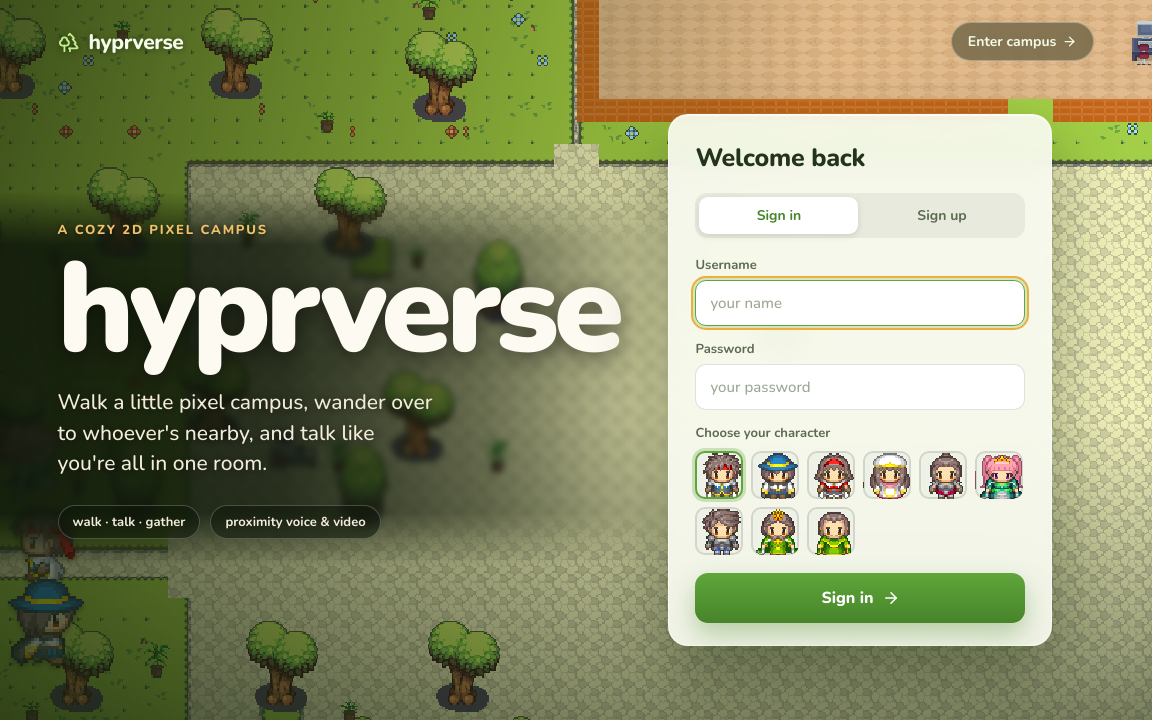
Scenario: Landing › surfaces a server error and does not enter
Type "ada" into the field labelled "Username".
click(860, 303); type("ada")  # box [696,280,1026,326]
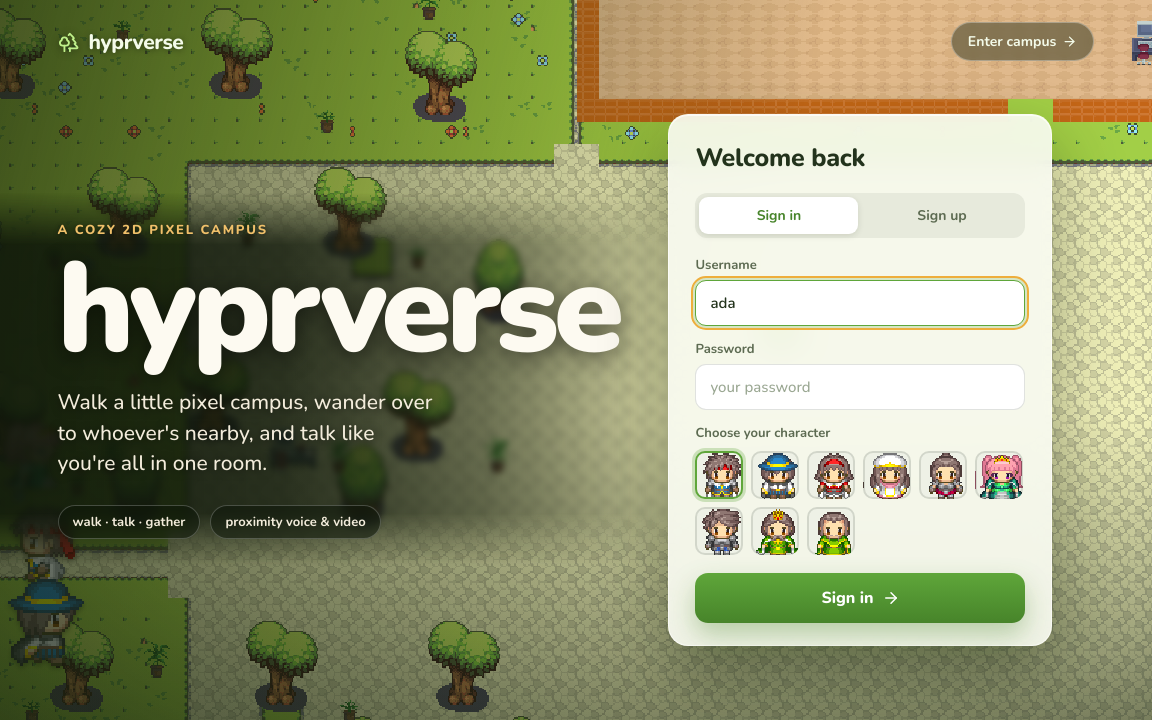
Type "wrongpass" into the password field labelled "Password".
click(860, 387); type("wrongpass")  # box [696,364,1026,410]
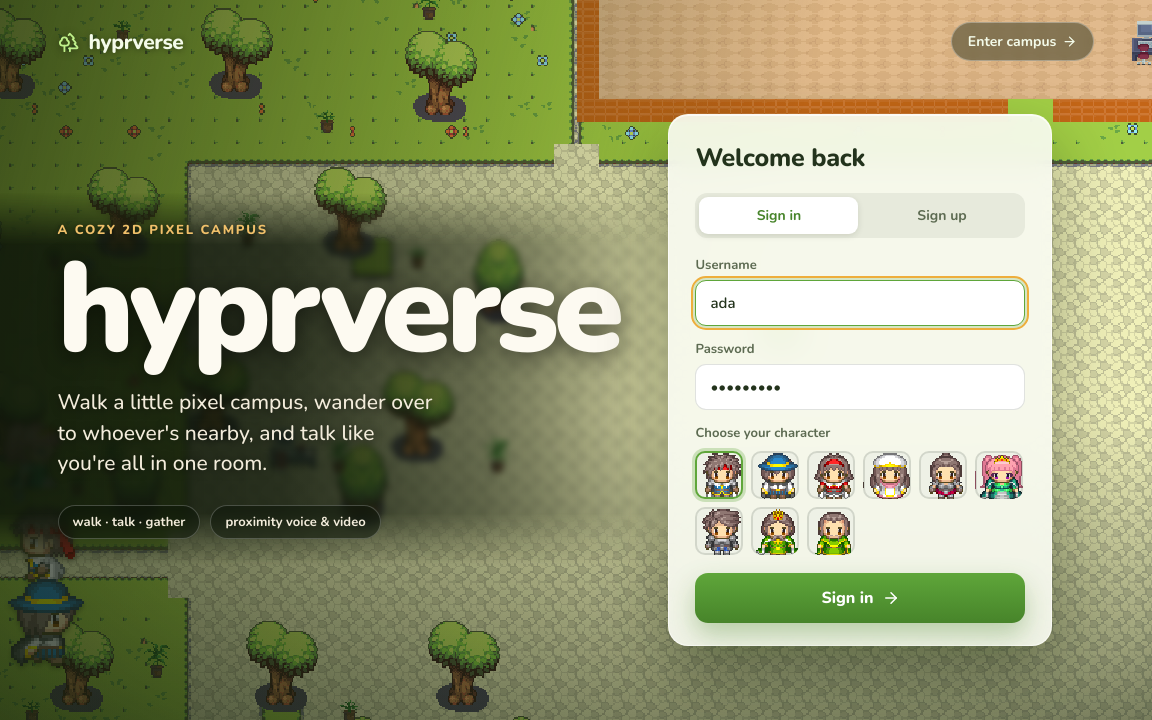
Click the 2nd button "Sign in".
click(860, 598)  # box [696,573,1026,623]
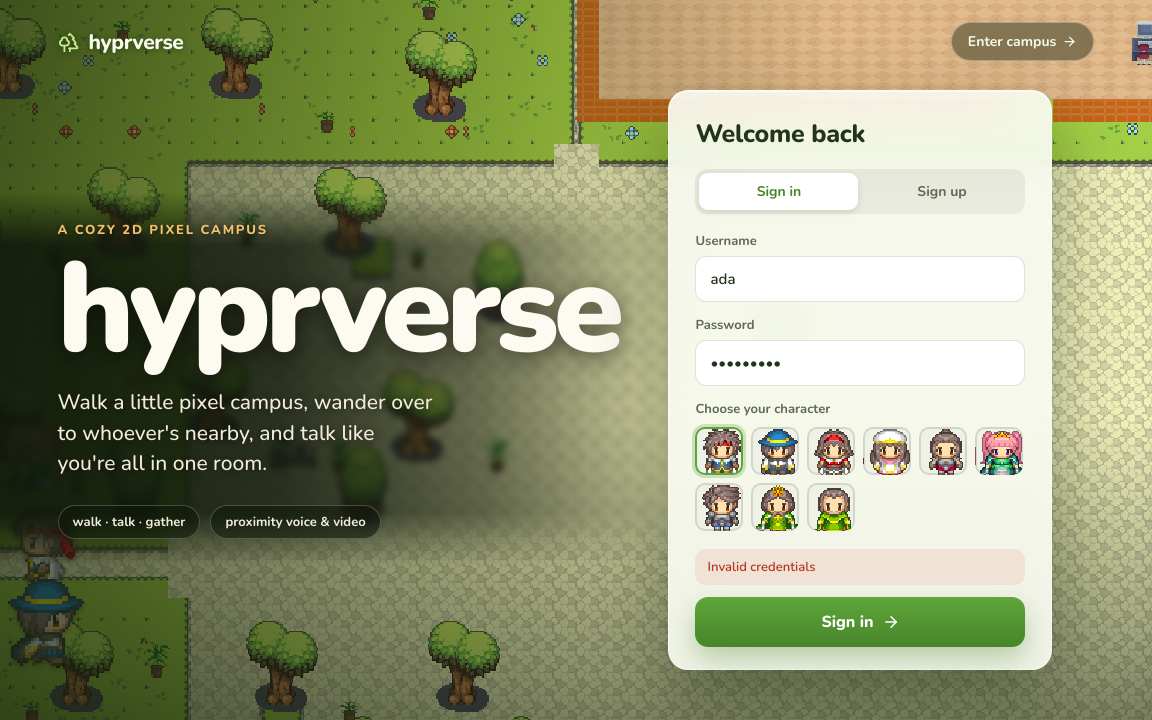
Expected: the message reads "Invalid credentials", [708,558,816,576]
